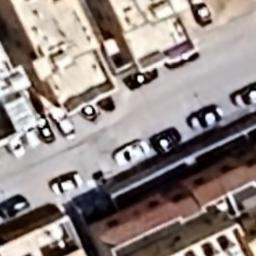pickup: (48, 106, 80, 138), (124, 66, 162, 90), (190, 0, 213, 27), (38, 115, 56, 143), (82, 104, 102, 122)
sedan: (188, 102, 224, 132), (110, 137, 148, 164), (50, 172, 85, 195), (235, 85, 256, 109)
unknown: (152, 126, 182, 153), (10, 140, 28, 160)
